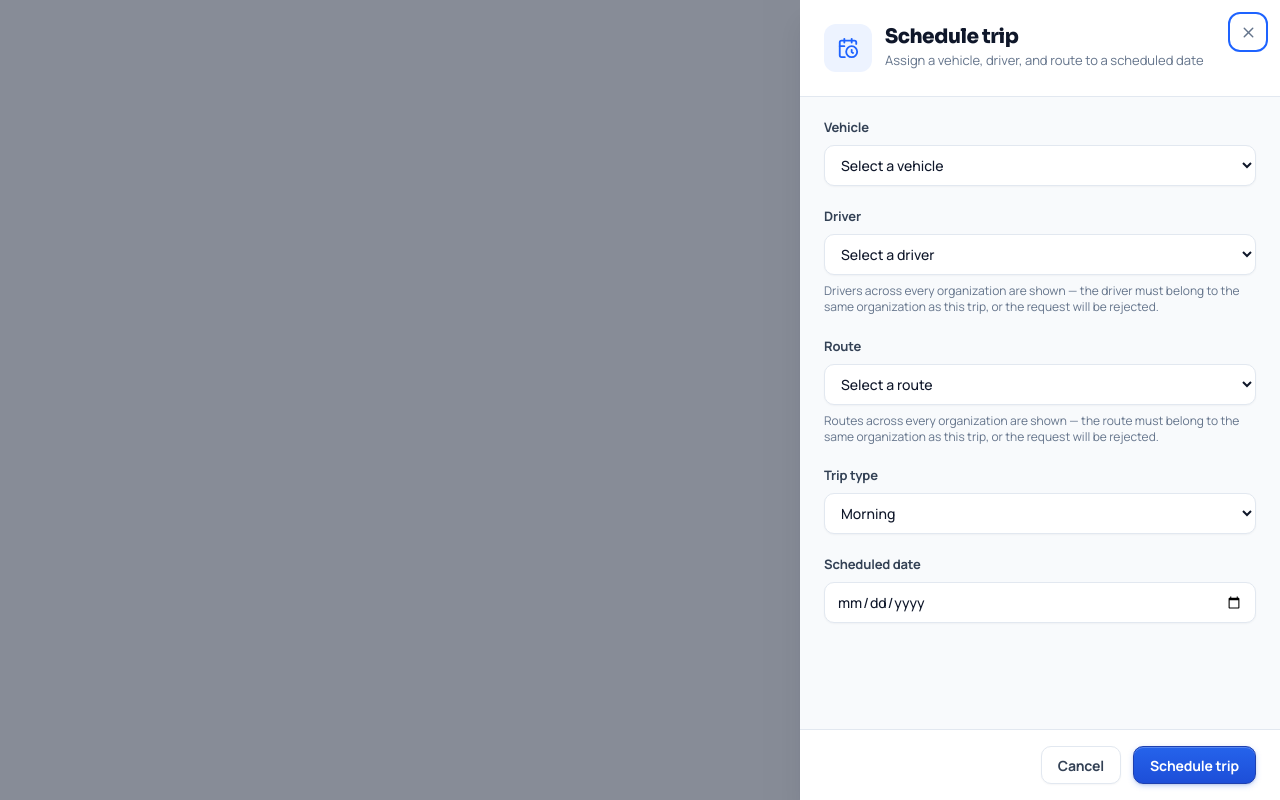
Test: ScheduleTripForm › shows a validation error and does not submit when required fields are missing
Click the button "Schedule trip" at (1194, 765), box [1133, 746, 1256, 784]
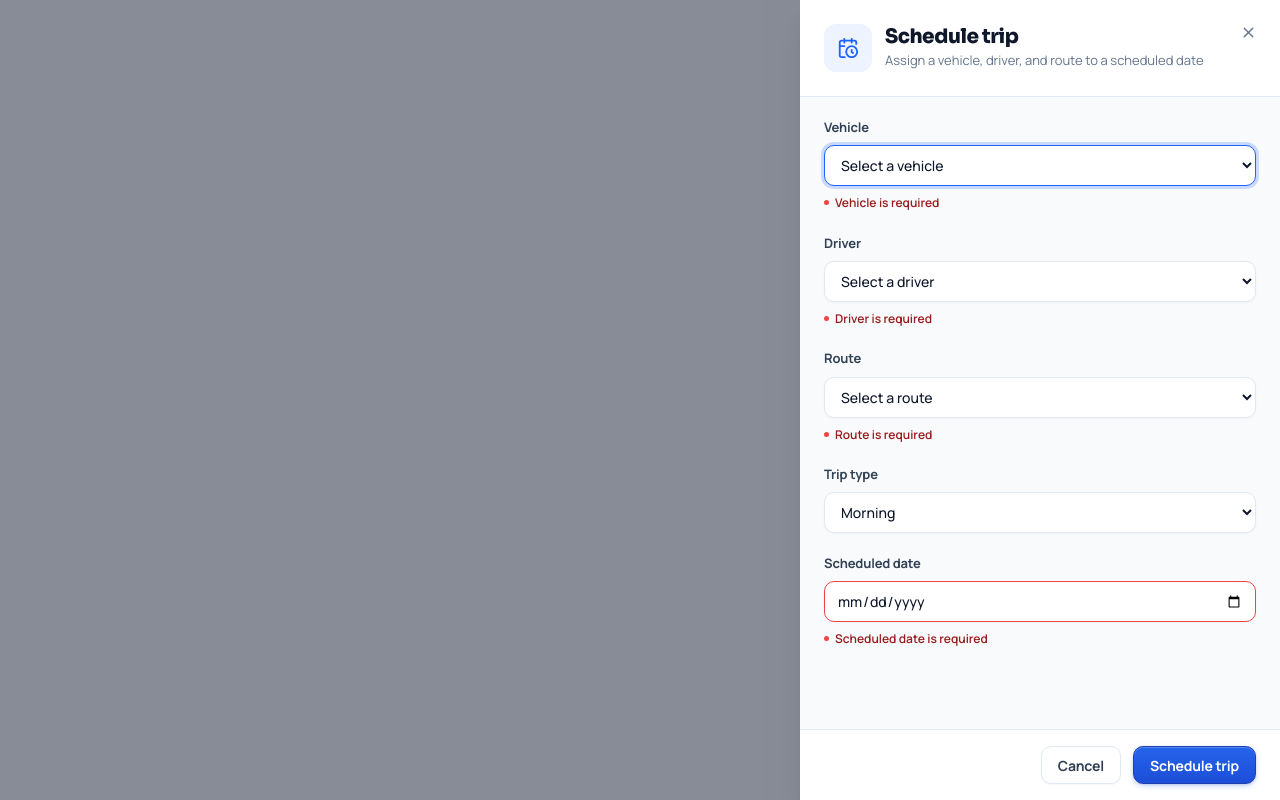
Now the text "Vehicle is required" is shown, box [835, 194, 939, 211]
